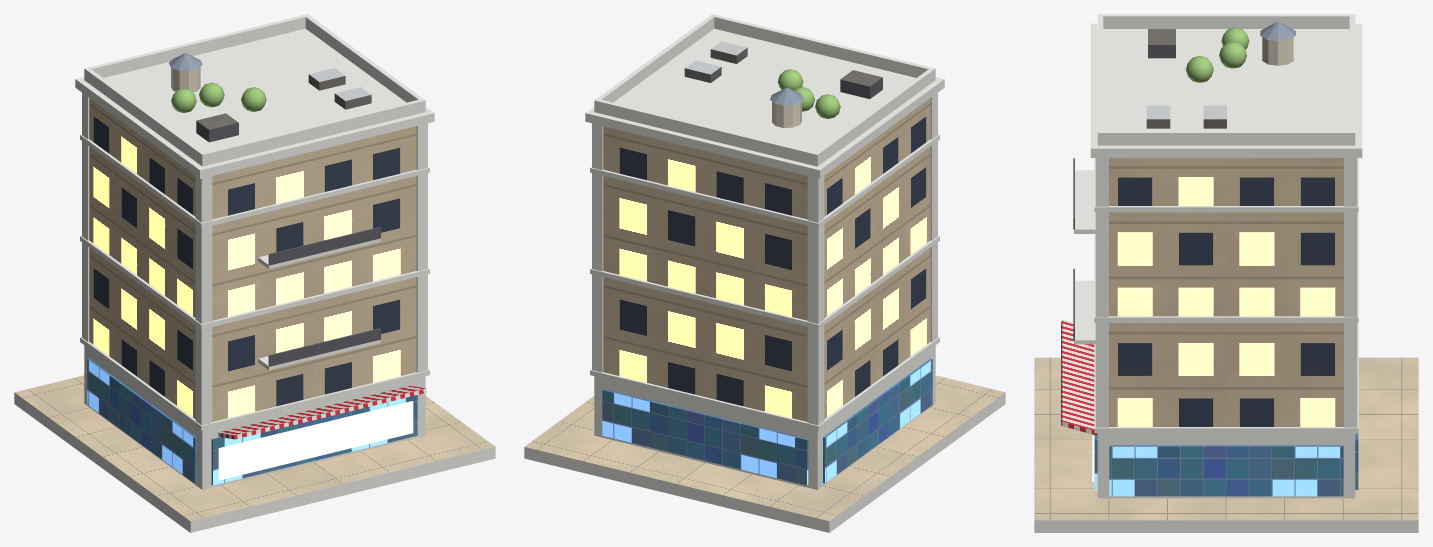
Rendered from dev_2_midrise_L2.glb.
3 renders of one model, left to right at view 1: azimuth 30°, elevation 25°; view 2: azimuth 150°, elevation 25°; view 3: azimuth 270°, elevation 25°, orthographic. The views are drawn at different scales.
Parts seen in each view (by area): view 1: dev_2_midrise_L2__facade_stone, dev_2_midrise_L2__white, dev_2_midrise_L2__paving_warm, dev_2_midrise_L2__facade_glass, dev_2_midrise_L2__window_glow, dev_2_midrise_L2__lamp_metal, dev_2_midrise_L2__awning, dev_2_midrise_L2__foliage_light, dev_2_midrise_L2__roof, dev_2_midrise_L2__wood, dev_2_midrise_L2__steel; view 2: dev_2_midrise_L2__facade_stone, dev_2_midrise_L2__white, dev_2_midrise_L2__paving_warm, dev_2_midrise_L2__facade_glass, dev_2_midrise_L2__foliage_light, dev_2_midrise_L2__roof, dev_2_midrise_L2__wood, dev_2_midrise_L2__steel, dev_2_midrise_L2__lamp_metal; view 3: dev_2_midrise_L2__white, dev_2_midrise_L2__facade_stone, dev_2_midrise_L2__paving_warm, dev_2_midrise_L2__facade_glass, dev_2_midrise_L2__awning, dev_2_midrise_L2__foliage_light, dev_2_midrise_L2__roof, dev_2_midrise_L2__wood, dev_2_midrise_L2__steel, dev_2_midrise_L2__lamp_metal, dev_2_midrise_L2__roof_slate.
Boxes of the visible parts, x1=… form: dev_2_midrise_L2__facade_stone: x1=89, y1=98, x2=416, y2=421; dev_2_midrise_L2__white: x1=14, y1=14, x2=495, y2=532; dev_2_midrise_L2__paving_warm: x1=15, y1=375, x2=495, y2=521; dev_2_midrise_L2__facade_glass: x1=87, y1=359, x2=417, y2=485; dev_2_midrise_L2__window_glow: x1=218, y1=401, x2=413, y2=480; dev_2_midrise_L2__lamp_metal: x1=196, y1=121, x2=380, y2=366; dev_2_midrise_L2__awning: x1=218, y1=385, x2=426, y2=439; dev_2_midrise_L2__foliage_light: x1=171, y1=82, x2=266, y2=112; dev_2_midrise_L2__roof: x1=196, y1=74, x2=371, y2=129; dev_2_midrise_L2__wood: x1=171, y1=67, x2=200, y2=92; dev_2_midrise_L2__steel: x1=309, y1=68, x2=370, y2=100; dev_2_midrise_L2__facade_stone: x1=603, y1=98, x2=930, y2=421; dev_2_midrise_L2__white: x1=524, y1=14, x2=1005, y2=532; dev_2_midrise_L2__paving_warm: x1=524, y1=375, x2=1004, y2=521; dev_2_midrise_L2__facade_glass: x1=602, y1=359, x2=932, y2=485; dev_2_midrise_L2__foliage_light: x1=778, y1=69, x2=840, y2=118; dev_2_midrise_L2__roof: x1=684, y1=48, x2=882, y2=86; dev_2_midrise_L2__wood: x1=772, y1=101, x2=801, y2=127; dev_2_midrise_L2__steel: x1=685, y1=41, x2=746, y2=74; dev_2_midrise_L2__lamp_metal: x1=840, y1=77, x2=882, y2=98; dev_2_midrise_L2__white: x1=1034, y1=14, x2=1418, y2=532; dev_2_midrise_L2__facade_stone: x1=1109, y1=158, x2=1343, y2=426; dev_2_midrise_L2__paving_warm: x1=1034, y1=357, x2=1418, y2=520; dev_2_midrise_L2__facade_glass: x1=1094, y1=433, x2=1358, y2=496; dev_2_midrise_L2__awning: x1=1061, y1=319, x2=1097, y2=435; dev_2_midrise_L2__foliage_light: x1=1185, y1=27, x2=1249, y2=82; dev_2_midrise_L2__roof: x1=1146, y1=29, x2=1226, y2=128; dev_2_midrise_L2__wood: x1=1262, y1=37, x2=1293, y2=65; dev_2_midrise_L2__steel: x1=1146, y1=105, x2=1226, y2=119; dev_2_midrise_L2__lamp_metal: x1=1073, y1=45, x2=1175, y2=340; dev_2_midrise_L2__roof_slate: x1=1260, y1=22, x2=1295, y2=41.
Size of the model in its own units: 0.82 by 0.9525 by 0.82.
Materials: 13 (6 with a texture image).
